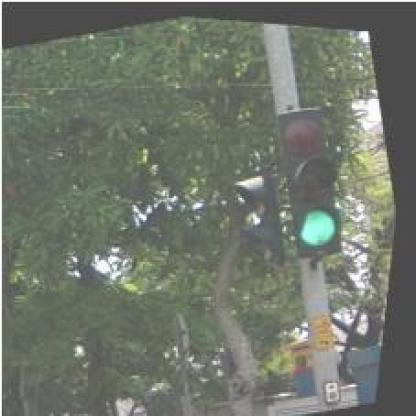green: (267, 96, 363, 256)
